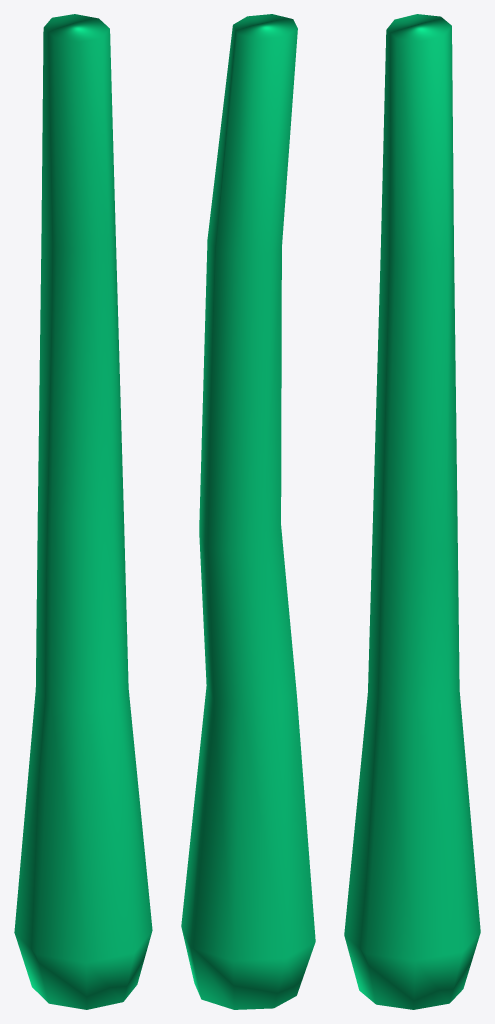
File: Mushroom_03_Feet.fbx
The picture shows the model from 3 angles, left to right: view 1: azimuth 90°, elevation 25°; view 2: azimuth 210°, elevation 25°; view 3: azimuth 270°, elevation 25°; orthographic projection.
Parts seen in each view (by area): view 1: Mushroom_03_Feet; view 2: Mushroom_03_Feet; view 3: Mushroom_03_Feet.
Part boxes in pixels (x1,y1,x2,y2): Mushroom_03_Feet: [14, 14, 152, 1009]; Mushroom_03_Feet: [181, 14, 315, 1009]; Mushroom_03_Feet: [344, 14, 480, 1009].
Bounding box in the file's own units: 7.68 × 59.45 × 7.68.
